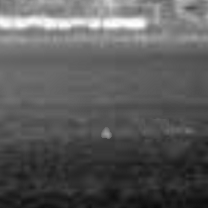Target: (100, 126, 112, 139)
